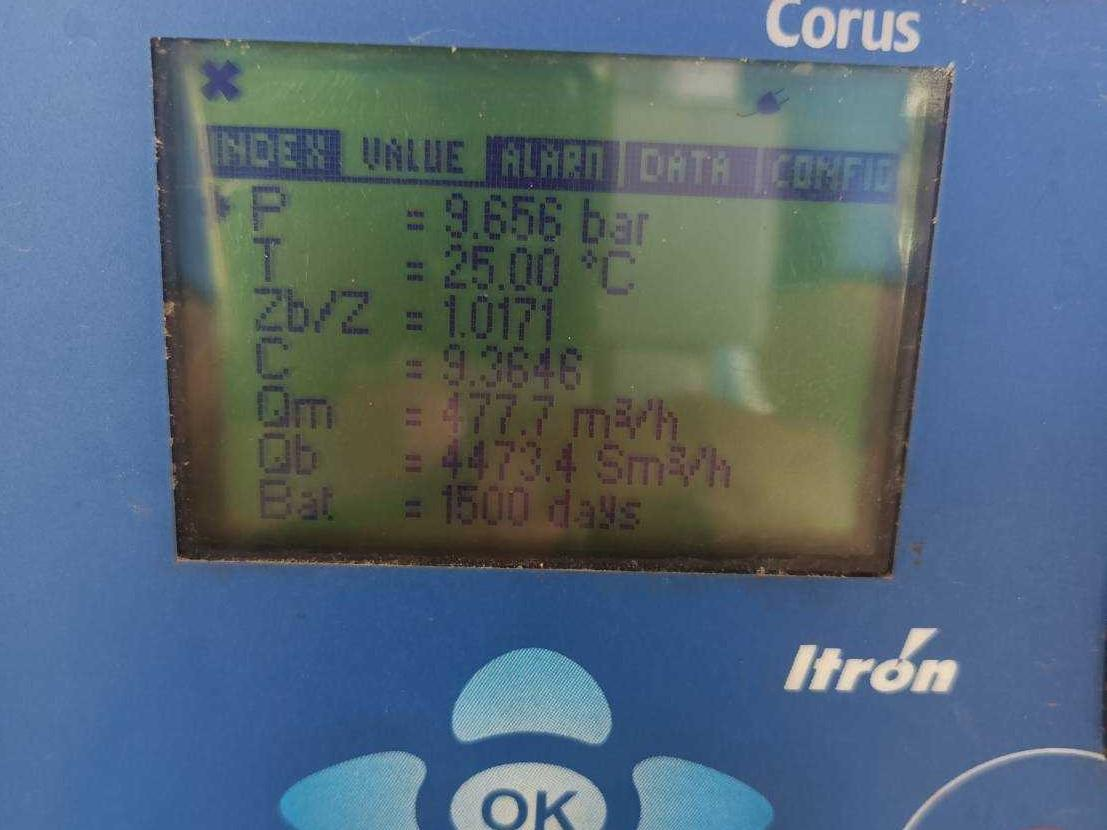digital_screen: (143, 38, 950, 576)
